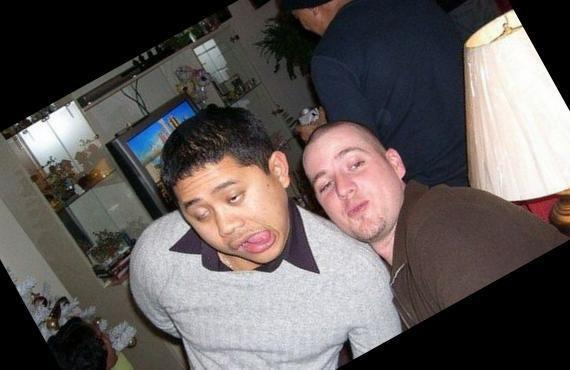Drunk: (174, 164, 289, 264), (302, 135, 402, 237)
